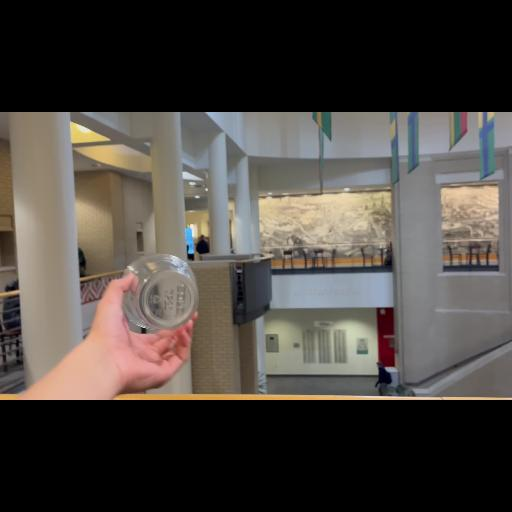lp_plastic_cup: (121, 254, 199, 332)
